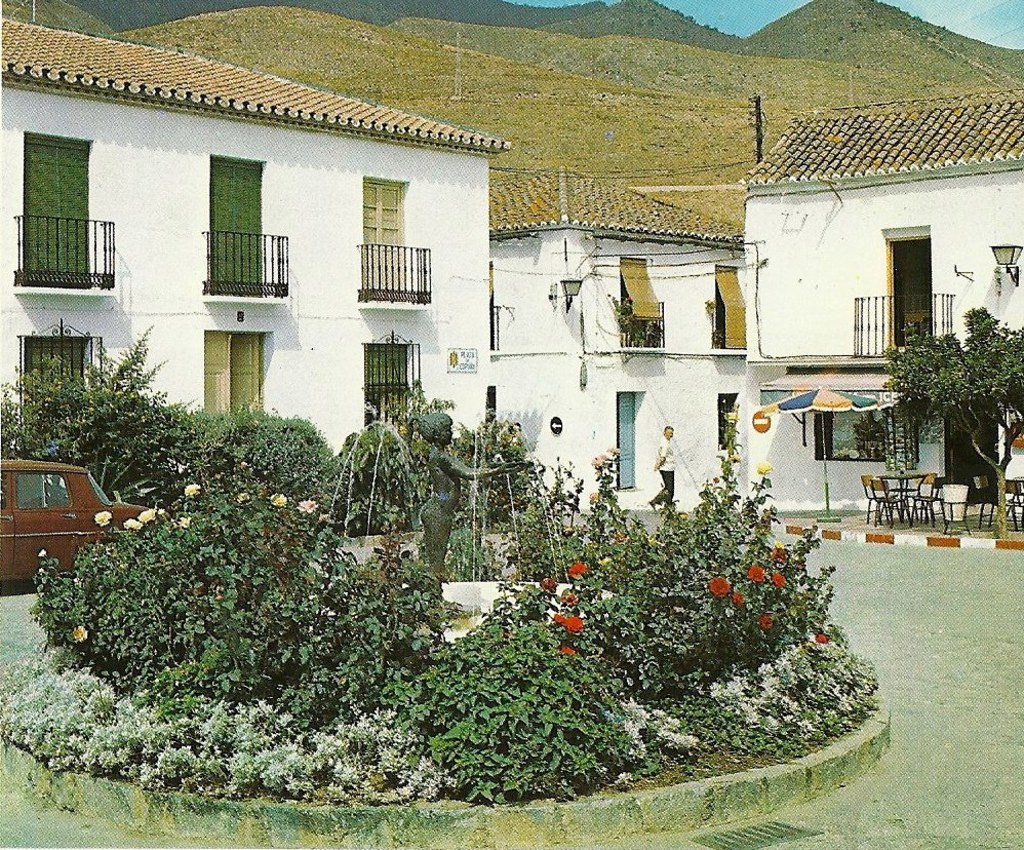Car: (0, 453, 164, 587)
